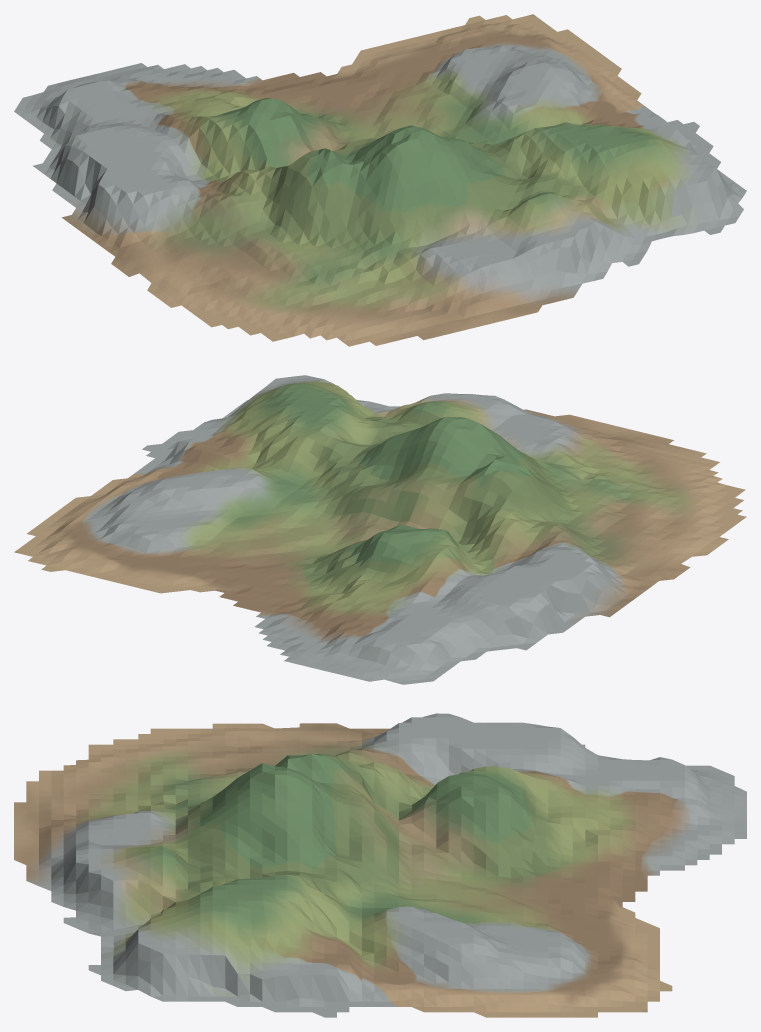
Rendered from Island2.fbx.
The picture shows the model from 3 angles, top to bottom: view 1: azimuth 30°, elevation 25°; view 2: azimuth 150°, elevation 25°; view 3: azimuth 270°, elevation 25°; orthographic projection. The views are drawn at different scales.
Parts seen in each view (by area): view 1: Terrain_64_new; view 2: Terrain_64_new; view 3: Terrain_64_new.
Boxes of the visible parts, <box> form: Terrain_64_new: <box>14,14,746,346</box>; Terrain_64_new: <box>14,375,746,684</box>; Terrain_64_new: <box>14,713,746,1017</box>.
Size of the model in its own units: 87500 by 12633 by 92188.
Materials: 1 (1 with a texture image).
